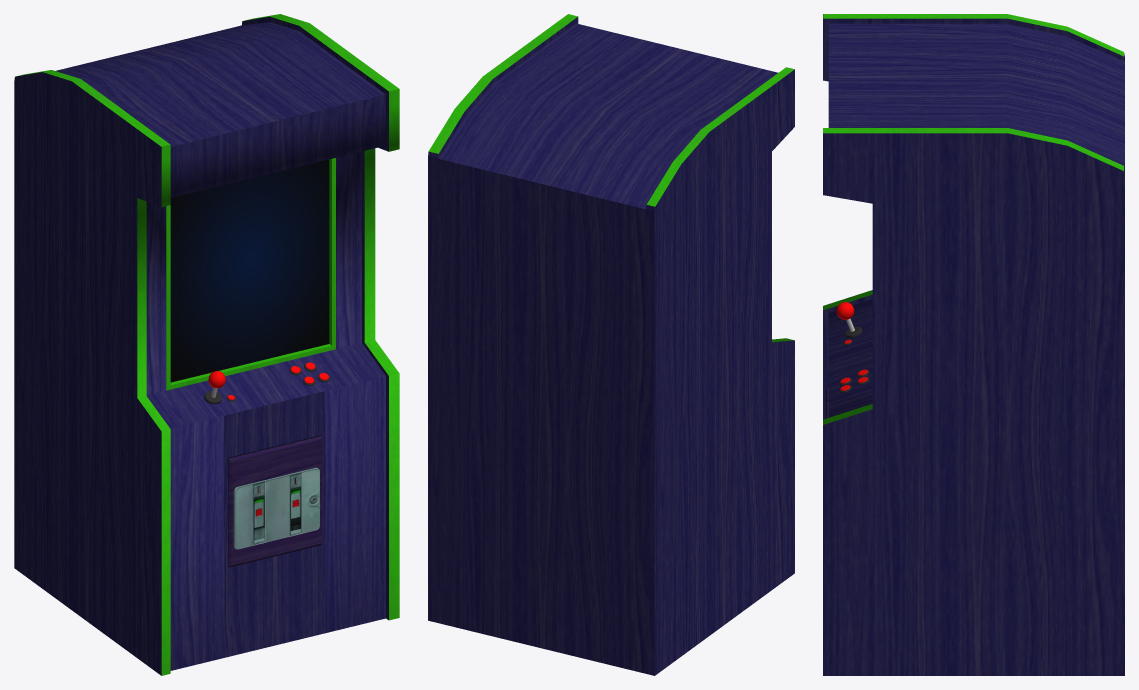
File: ArcadeCabinet1.FBX
The picture shows the model from 3 angles, left to right: view 1: azimuth 30°, elevation 25°; view 2: azimuth 150°, elevation 25°; view 3: azimuth 270°, elevation 25°; orthographic projection. The views are drawn at different scales.
Visible parts, largest first — view 1: Cabinet1, Cabinet1Screen, CoinSlot; view 2: Cabinet1; view 3: Cabinet1.
Boxes of the visible parts, x1,y1,x2,y2 form: Cabinet1: (14,14,399,675); Cabinet1Screen: (170,159,329,382); CoinSlot: (233,467,319,549); Cabinet1: (428,14,794,675); Cabinet1: (823,14,1124,675).
Size of the model in its own units: 34.29 by 72.83 by 36.71.
